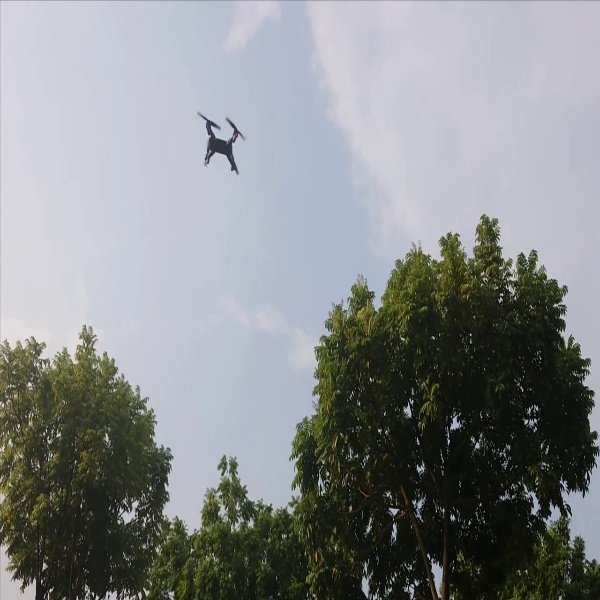drone: (190, 109, 252, 186)
